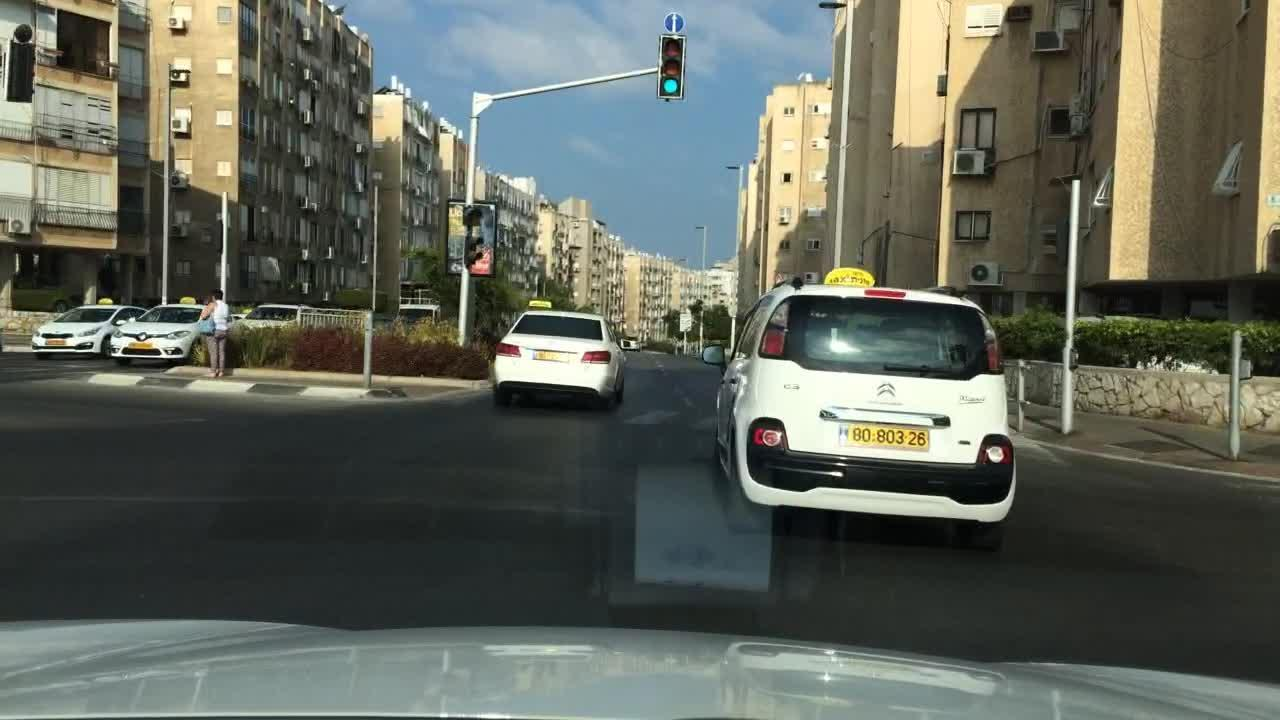Citroen: (870, 373, 901, 408)
